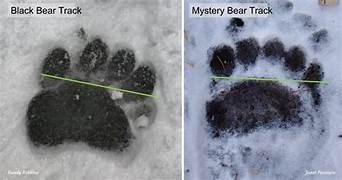bear: (22, 38, 167, 160), (196, 37, 330, 140)
